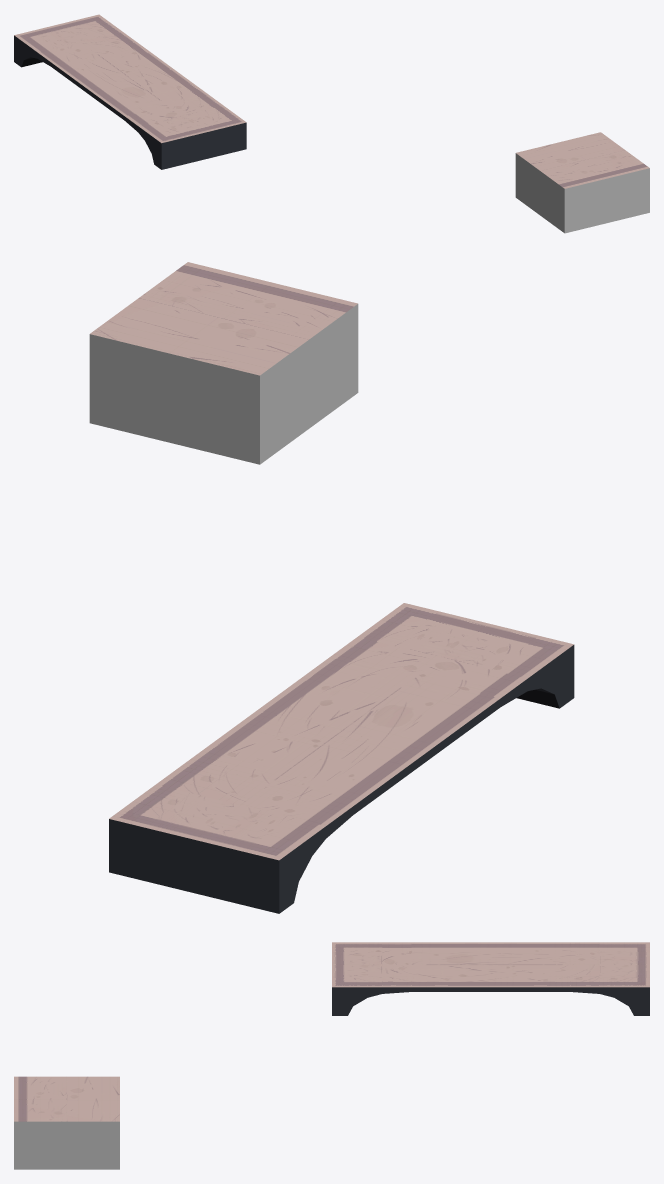
3 renders of one model, top to bottom at view 1: azimuth 30°, elevation 25°; view 2: azimuth 150°, elevation 25°; view 3: azimuth 270°, elevation 25°, orthographic. The views are drawn at different scales.
Parts seen in each view (by area): view 1: bridge, Cube.1523, Cube.1524; view 2: bridge, Cube.1524, Cube.1523; view 3: bridge, Cube.1523, Cube.1524.
Boxes of the visible parts, box(x1,y1,x2,y2) form: bridge: box(14, 14, 246, 169); Cube.1523: box(540, 150, 649, 233); Cube.1524: box(515, 132, 624, 215); bridge: box(109, 603, 574, 913); Cube.1524: box(89, 298, 309, 464); Cube.1523: box(139, 262, 358, 428); bridge: box(332, 942, 649, 1015); Cube.1523: box(14, 1076, 66, 1169); Cube.1524: box(67, 1076, 119, 1169).
Size of the model in its own units: 8000 by 1000 by 12000.
